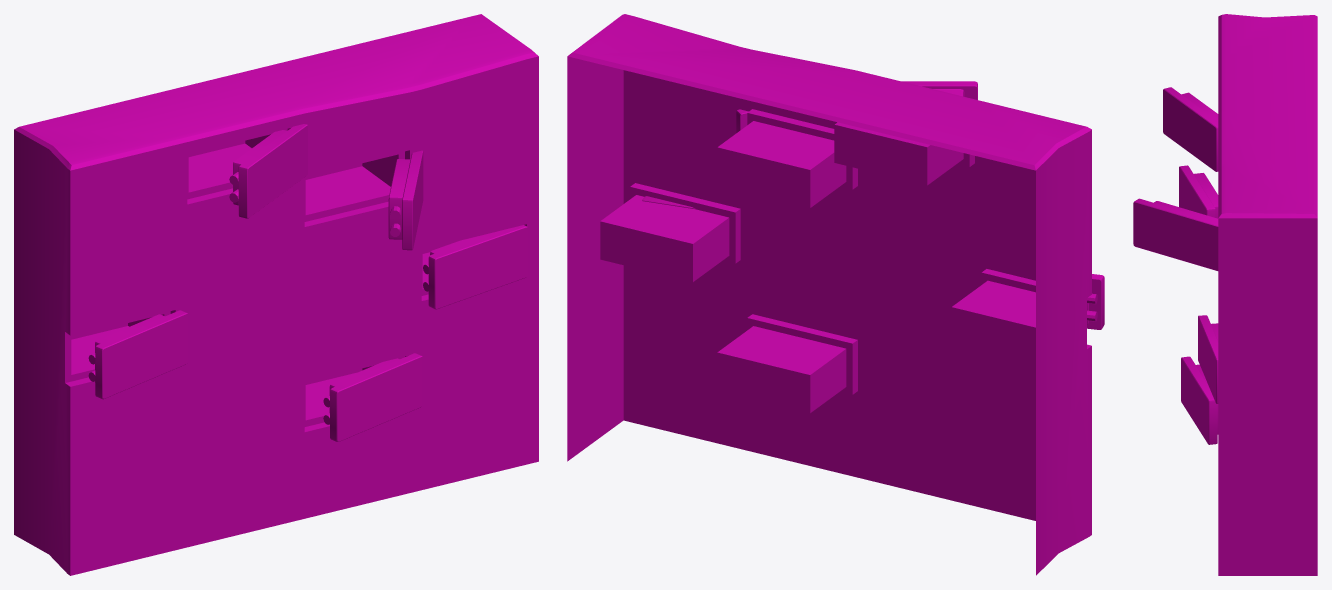
Rendered from SM_Locker.fbx.
3 renders of one model, left to right at view 1: azimuth 30°, elevation 25°; view 2: azimuth 150°, elevation 25°; view 3: azimuth 270°, elevation 25°, orthographic. The views are drawn at different scales.
Parts seen in each view (by area): view 1: SM_Locker; view 2: SM_Locker; view 3: SM_Locker.
Boxes of the visible parts, x1,y1,x2,y2 form: SM_Locker: (14,14,538,575); SM_Locker: (567,14,1104,575); SM_Locker: (1133,14,1317,575).
Bounding box in the file's own units: 300 × 251 × 116.
